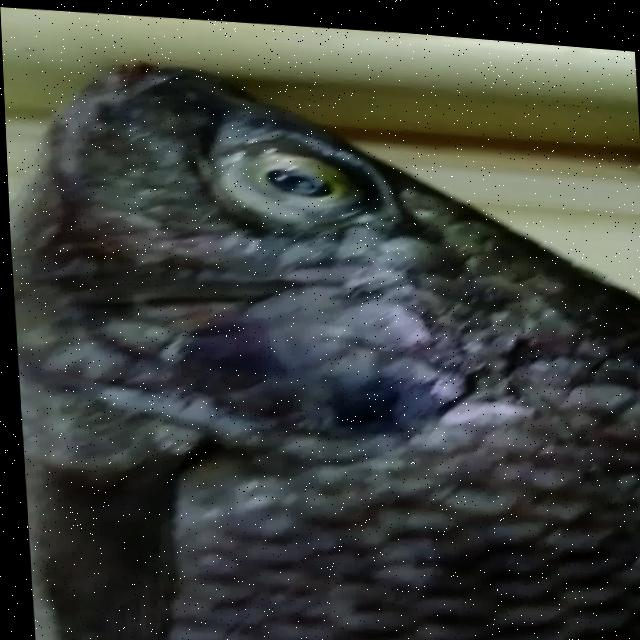Non-Fresh: (222, 121, 364, 224)
